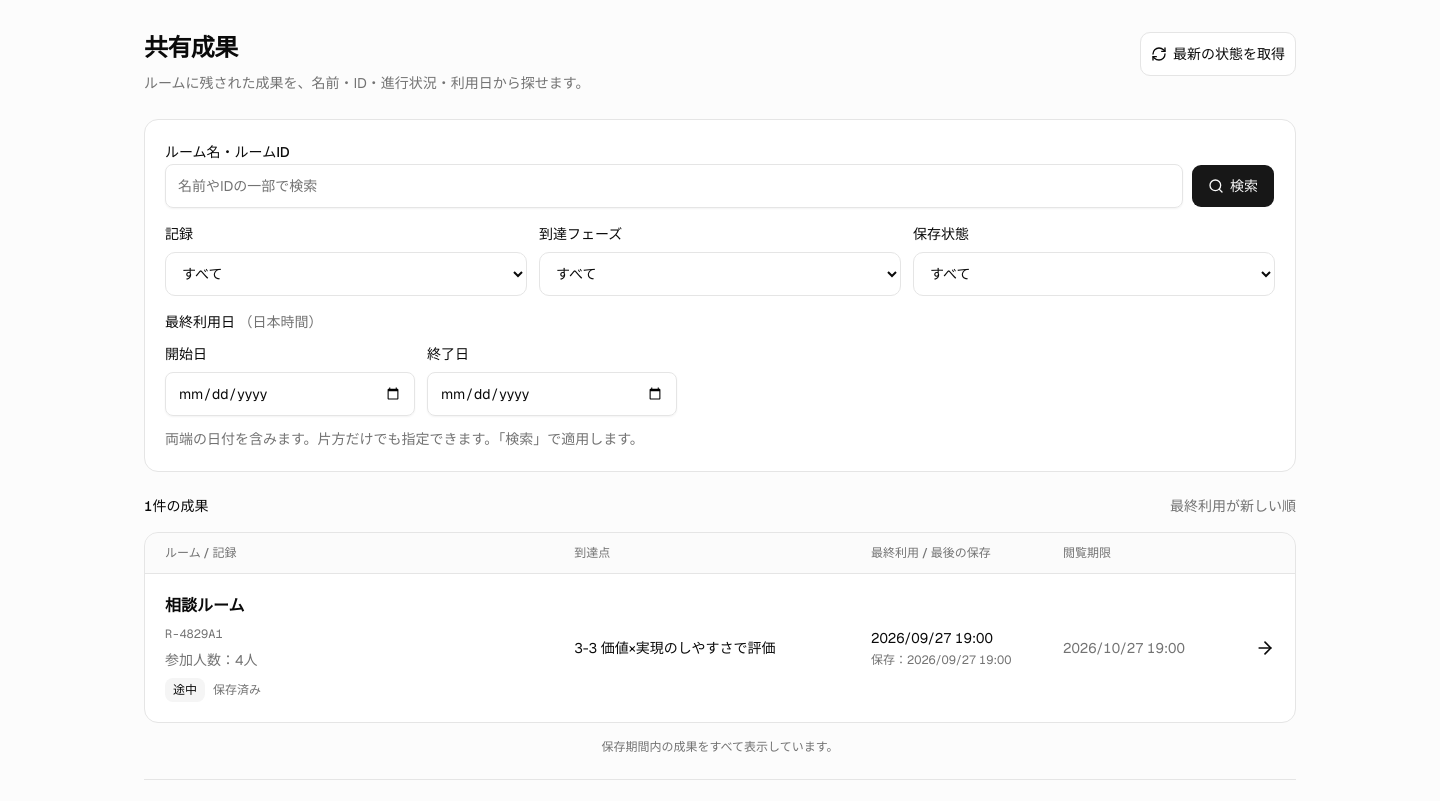
Test: 共有成果閲覧 › 一覧から詳細へ進み戻る操作でも新しく取得する
Click the link "相談ルーム".
click(720, 648)  # box left=145, top=574, right=1295, bottom=722
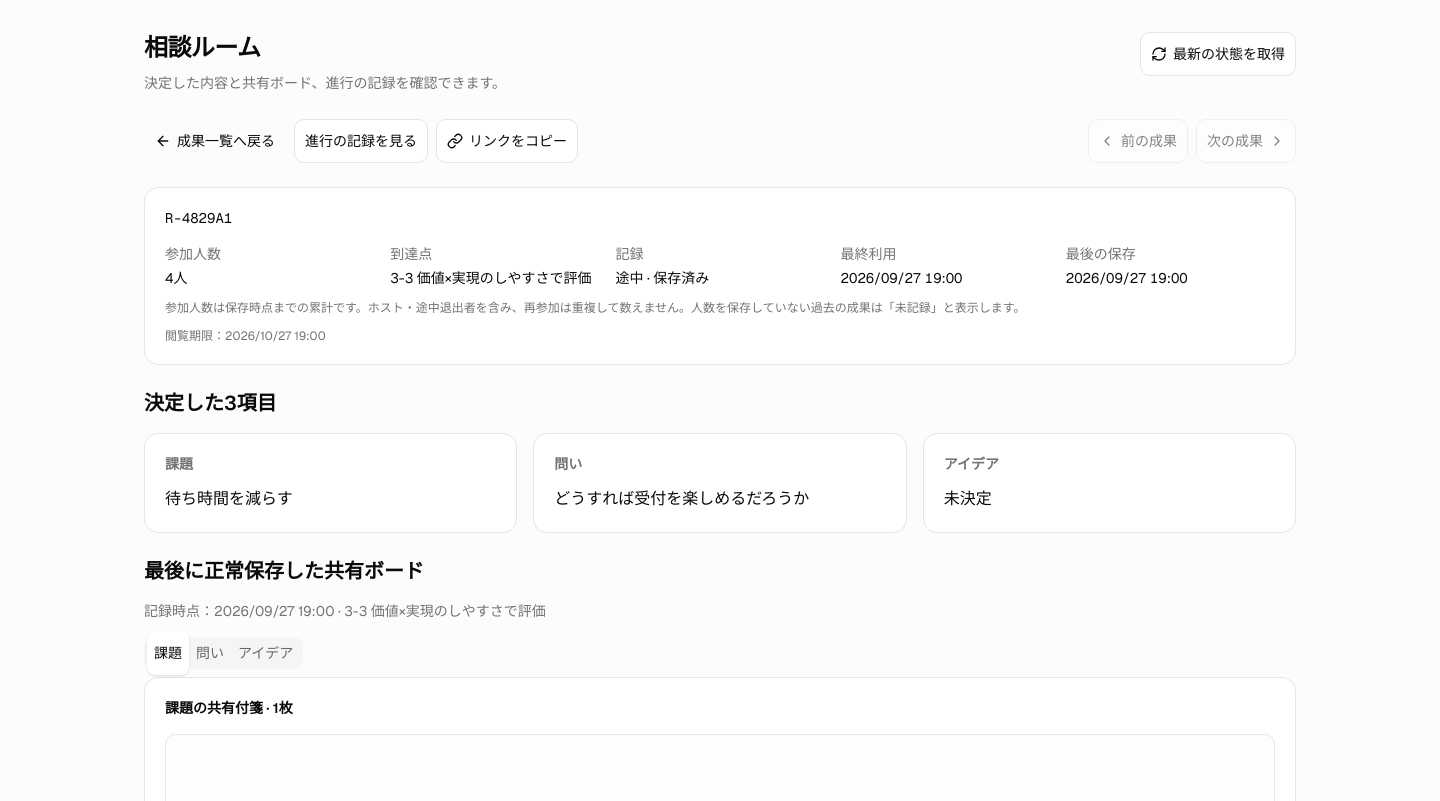
Now the heading "決定した3項目" is shown, box left=144, top=390, right=277, bottom=416
Click the button "成果一覧へ戻る".
click(215, 141)  # box left=144, top=119, right=286, bottom=163
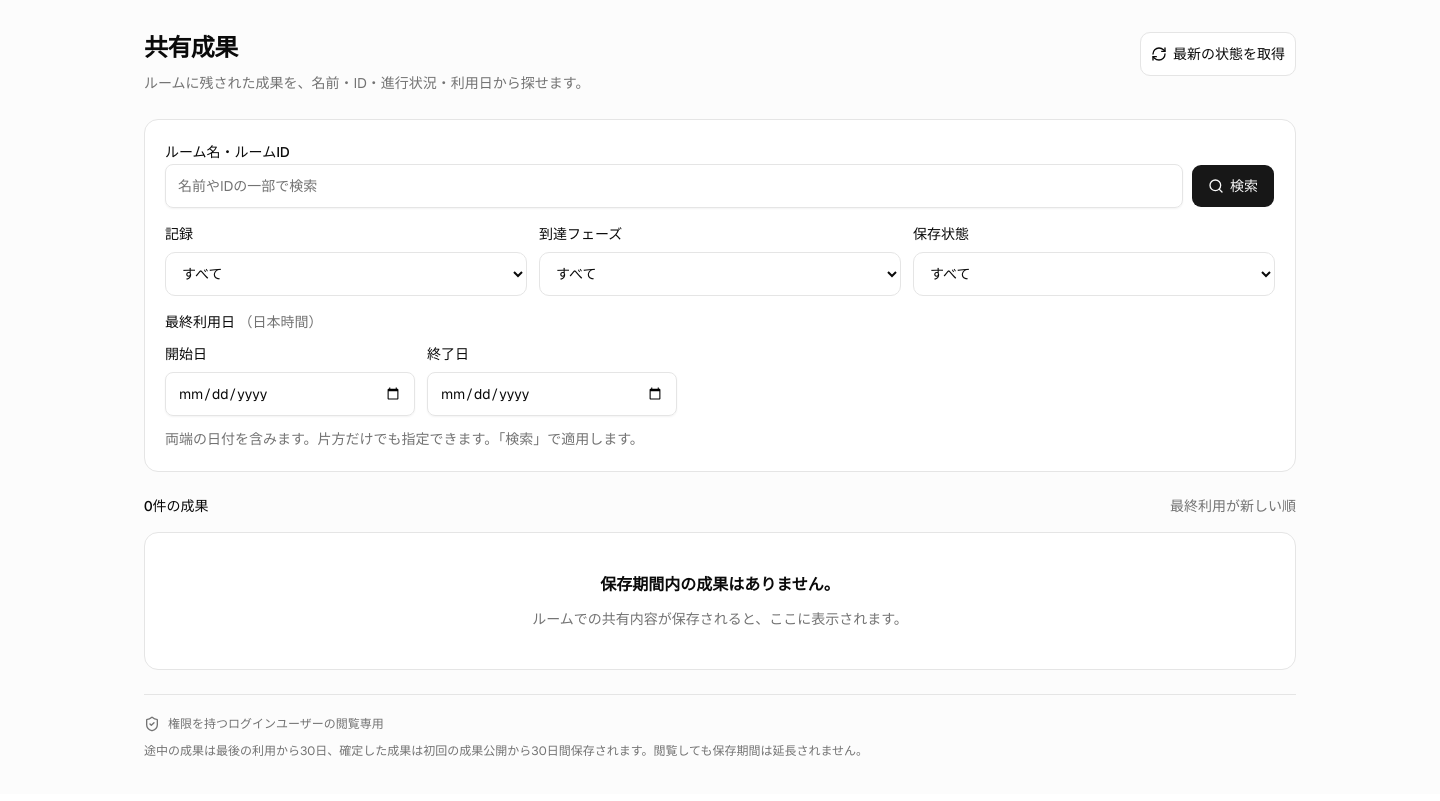
Now the heading "保存期間内の成果はありません。" is shown, box left=600, top=574, right=840, bottom=594
